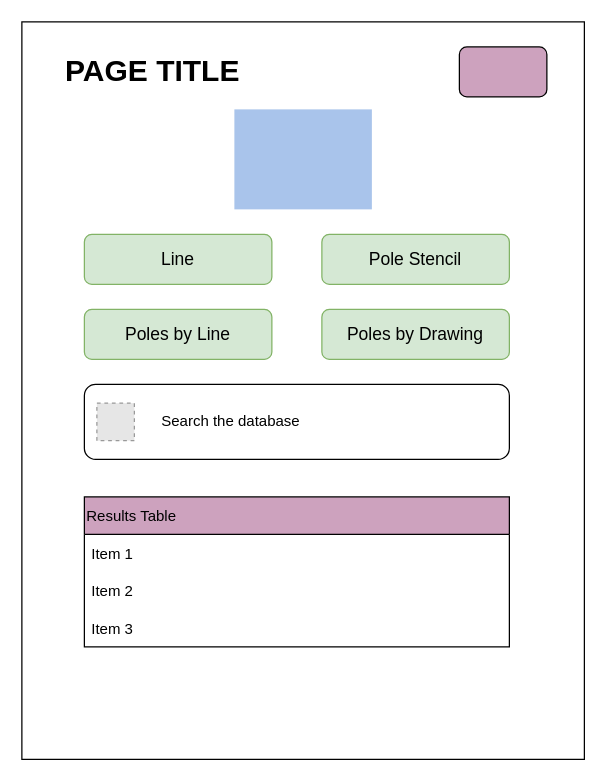
The diagram is 606 pixels wide and 781 high, and some of its shapes have lost their labels. Grey dashed boxes stand in for pictures. The centre of each missing label's shape, as x and y in pixels:
"Dropdown" belongs at [502,71].
"LOGO" belongs at [302,159].
